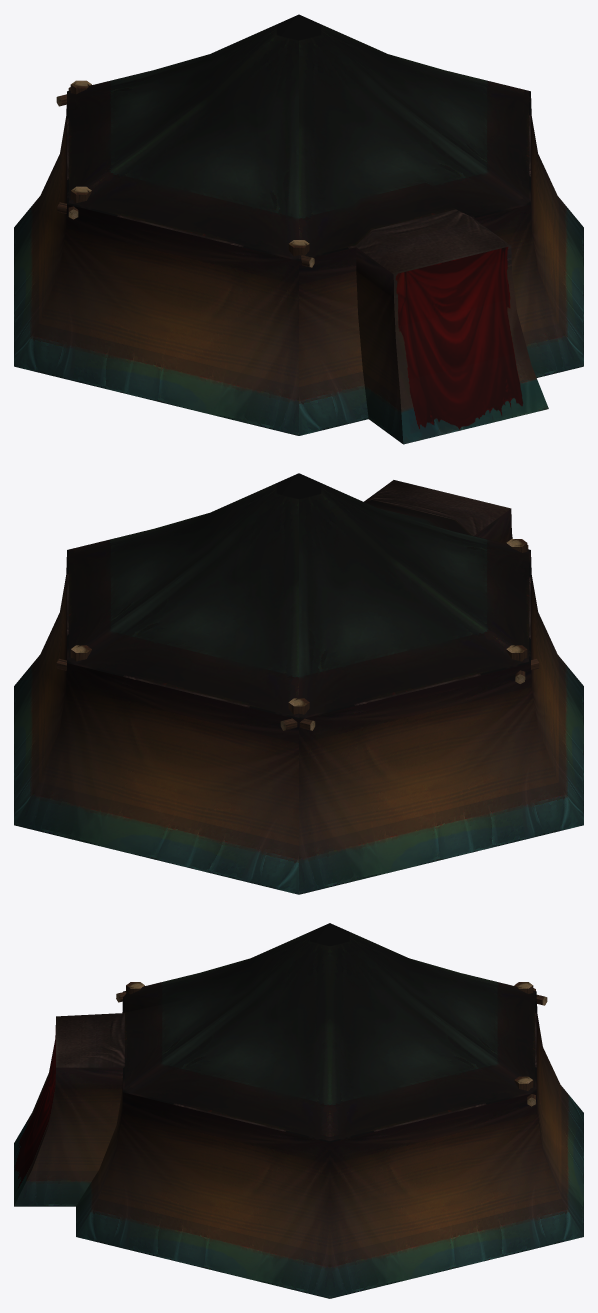
Rendered from daliang_field_b_s09b.fbx.
3 renders of one model, top to bottom at view 1: azimuth 30°, elevation 25°; view 2: azimuth 150°, elevation 25°; view 3: azimuth 270°, elevation 25°, orthographic. The views are drawn at different scales.
Visible parts, largest first — view 1: daliang_field_b_s09b; view 2: daliang_field_b_s09b; view 3: daliang_field_b_s09b.
Boxes of the visible parts, bbox=[...] form: daliang_field_b_s09b: bbox=[14, 14, 583, 444]; daliang_field_b_s09b: bbox=[14, 473, 583, 894]; daliang_field_b_s09b: bbox=[14, 923, 583, 1298].
Size of the model in its own units: 2174 by 1043 by 2112.
